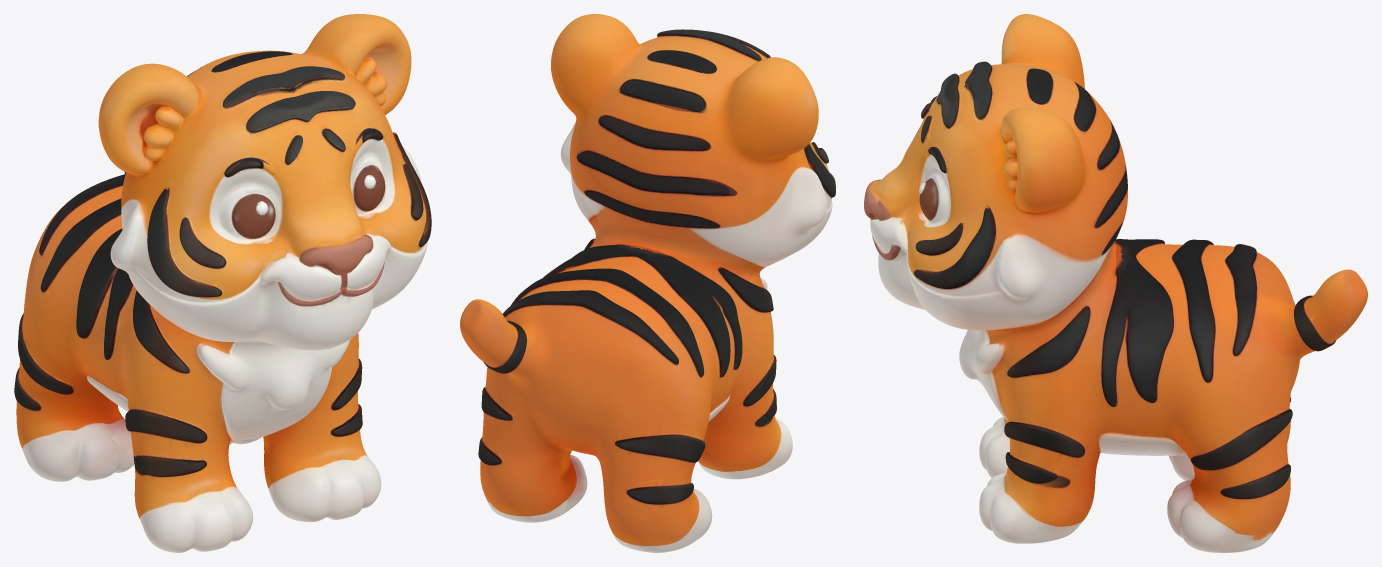
Rendered from Tigre.glb.
3 views of the same model, side by side, from view 1: azimuth 30°, elevation 25°; view 2: azimuth 150°, elevation 25°; view 3: azimuth 270°, elevation 25° (orthographic). The views are drawn at different scales.
Bounding box in the file's own units: 1.21 × 1.83 × 1.9.
Materials: 1 (1 with a texture image).
